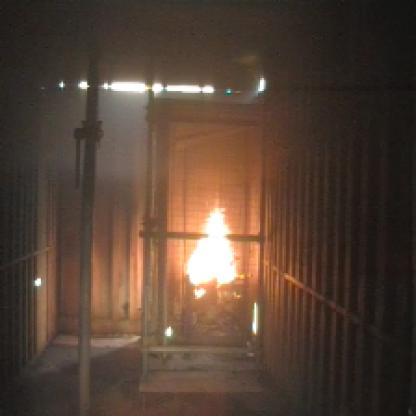Fire: (180, 199, 242, 301)
